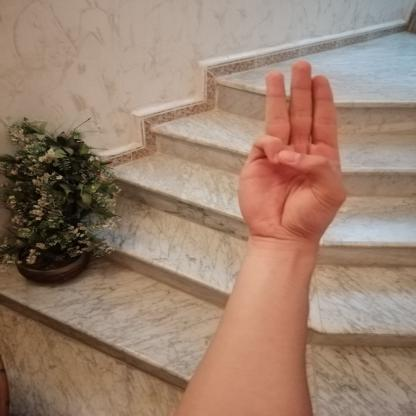THA: (222, 49, 360, 255)
